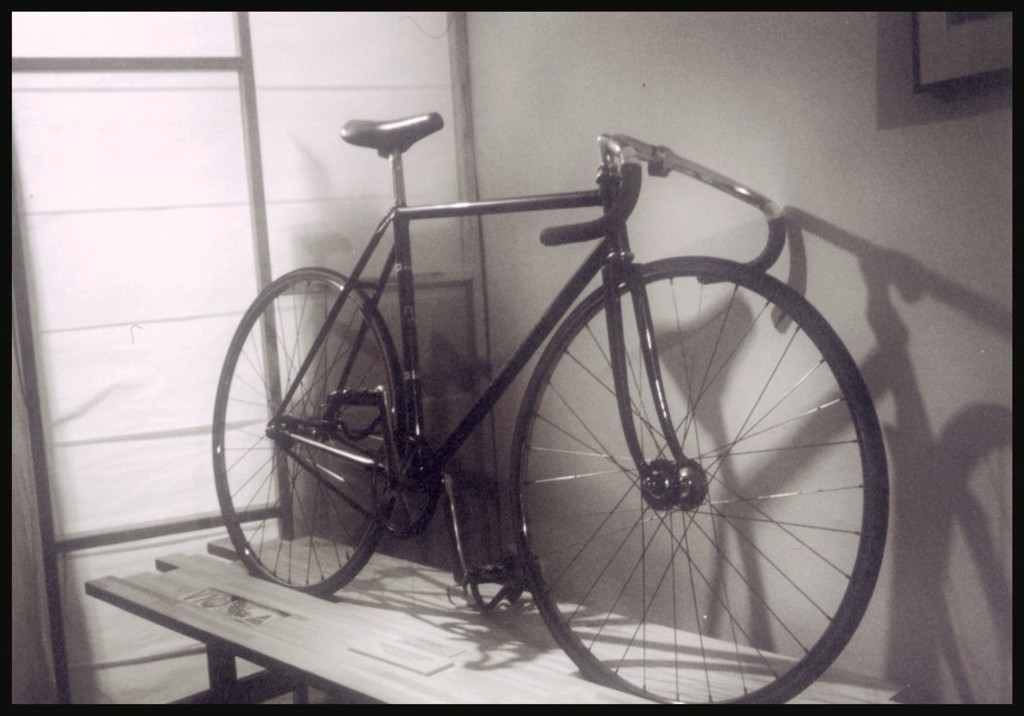Bike_toward: (206, 113, 888, 703)
